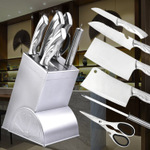knief: (84, 69, 150, 103)
